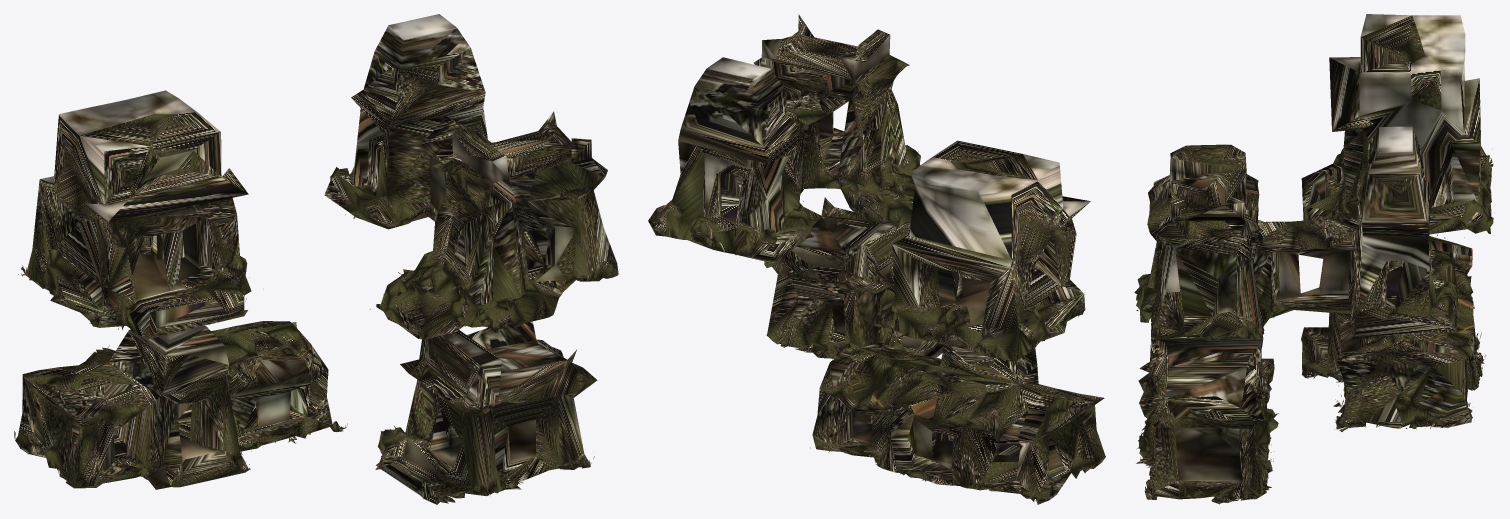
Rendered from Ancient_Stone_Structu.glb.
3 views of the same model, side by side, from view 1: azimuth 30°, elevation 25°; view 2: azimuth 150°, elevation 25°; view 3: azimuth 270°, elevation 25° (orthographic). The views are drawn at different scales.
Visible parts, largest first — view 1: Ancient_Stone_Structu; view 2: Ancient_Stone_Structu; view 3: Ancient_Stone_Structu.
Part boxes in pixels (x1,y1,x2,y2): Ancient_Stone_Structu: (14, 14, 619, 504); Ancient_Stone_Structu: (648, 14, 1105, 504); Ancient_Stone_Structu: (1134, 14, 1493, 504).
Size of the model in its own units: 1.88 by 1.44 by 1.38.
Materials: 1 (1 with a texture image).
